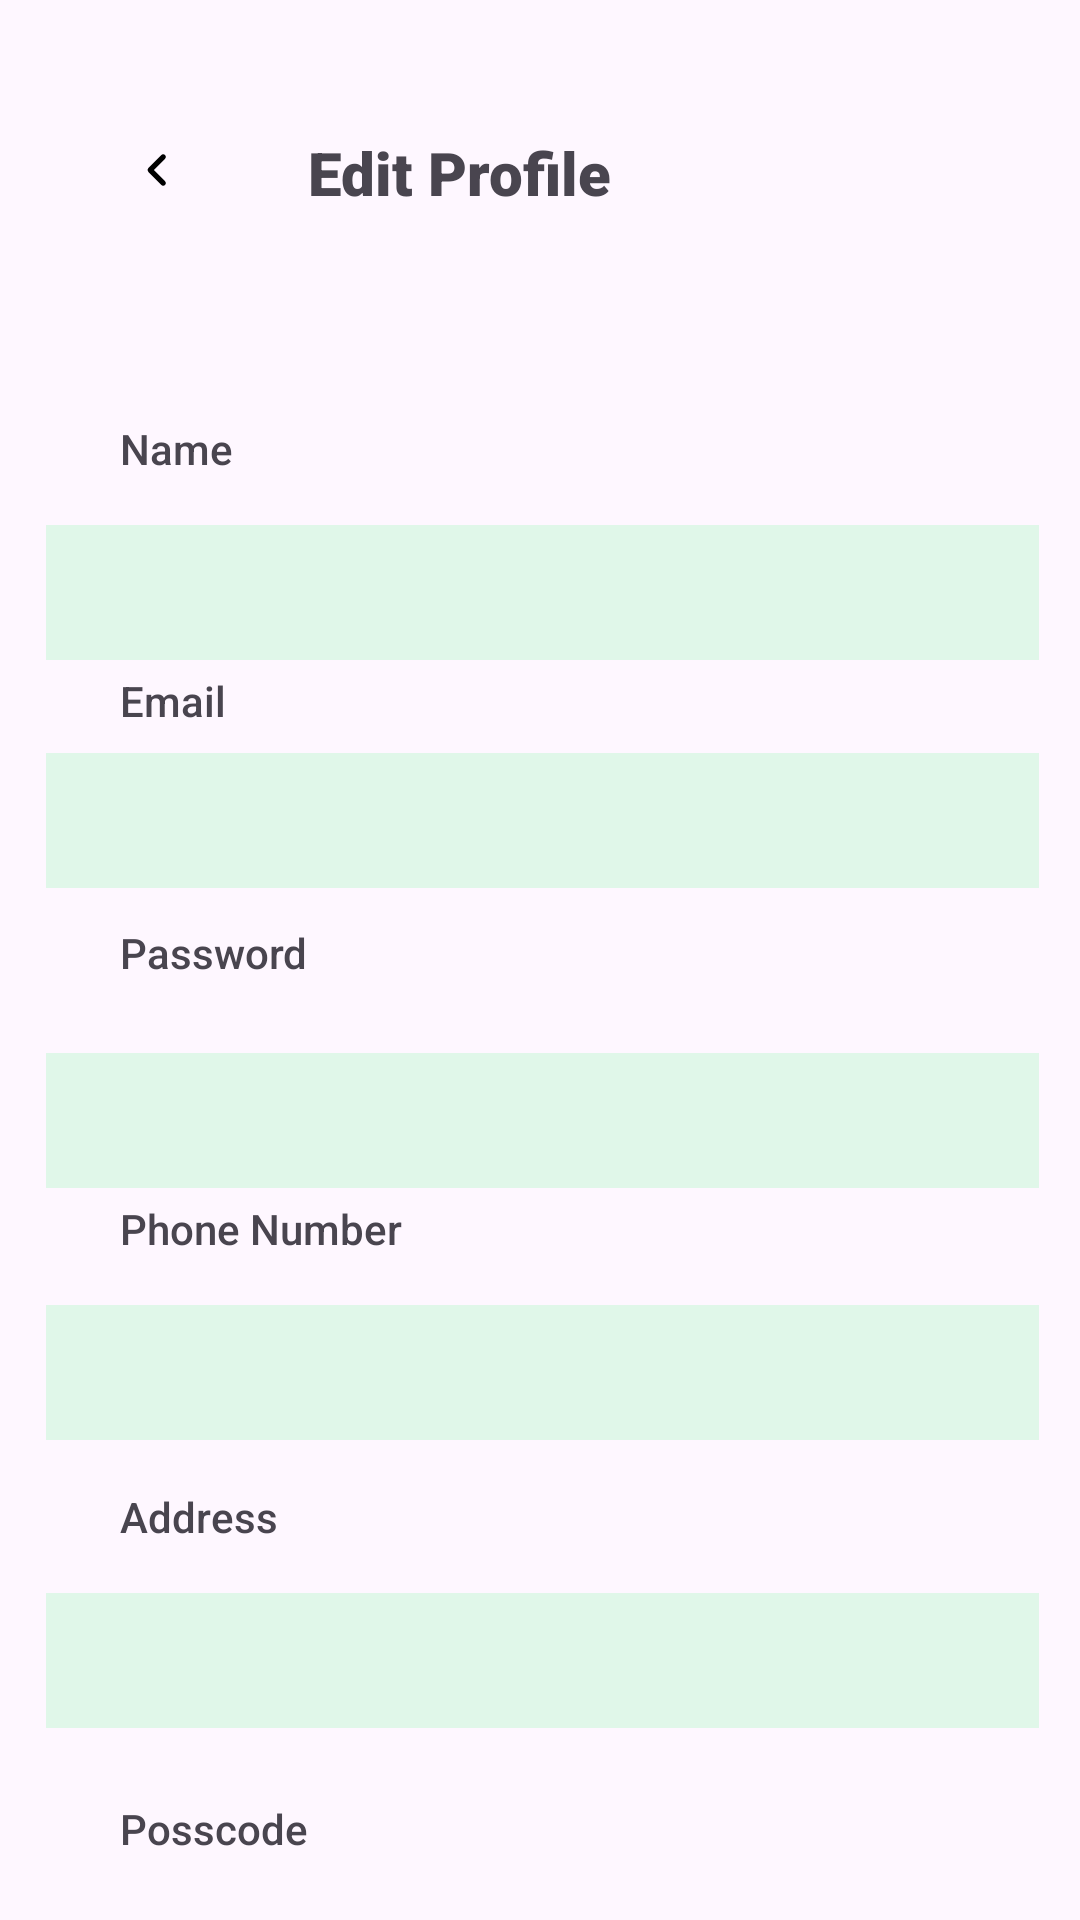

Icon click points for this 1080×1920 phone screenshot, format (x=x, y=y):
angle left: (x=156, y=170)
